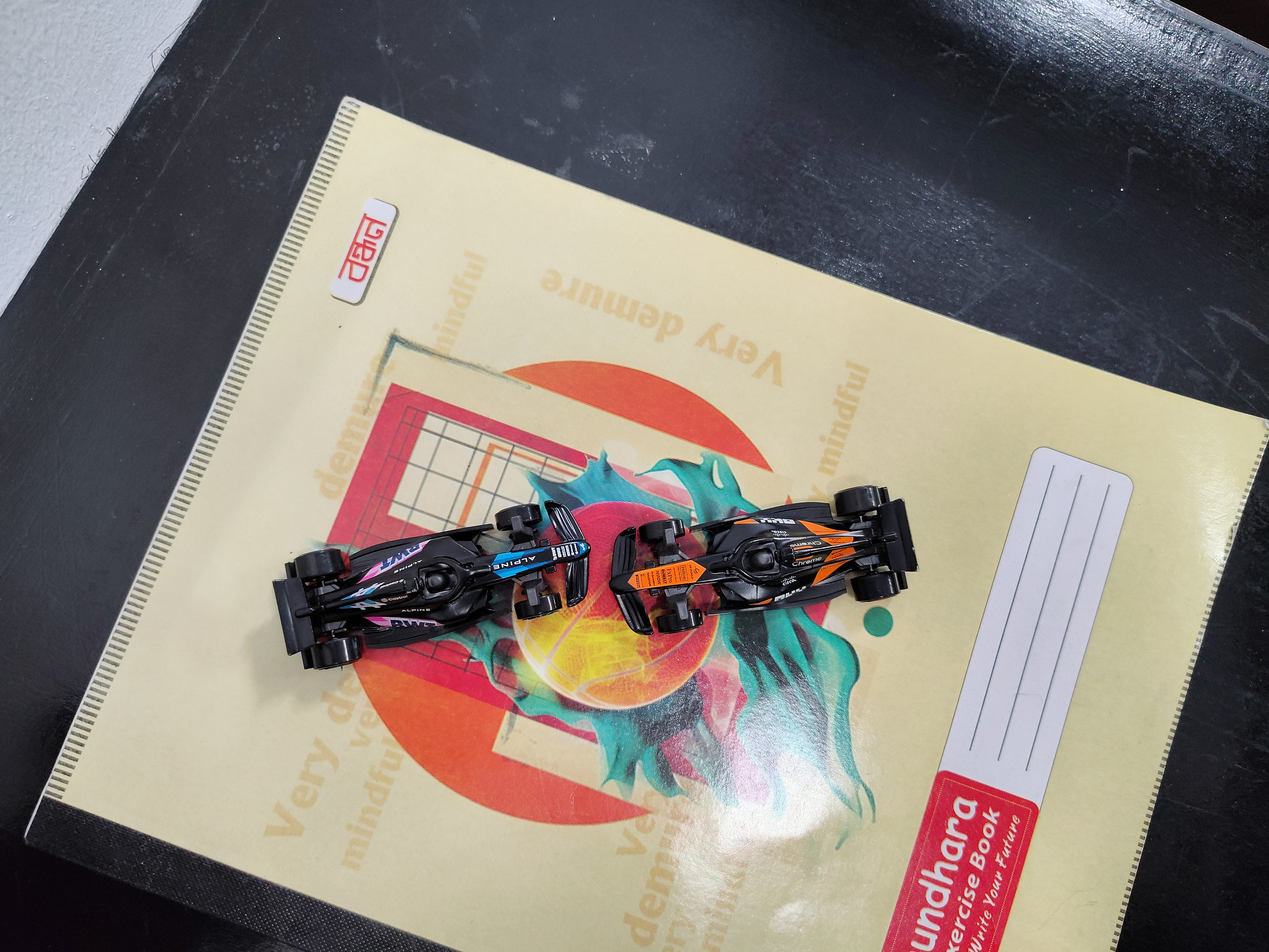Alpine A524: (245, 511, 612, 668)
McLaren MCL40: (599, 487, 973, 635)
